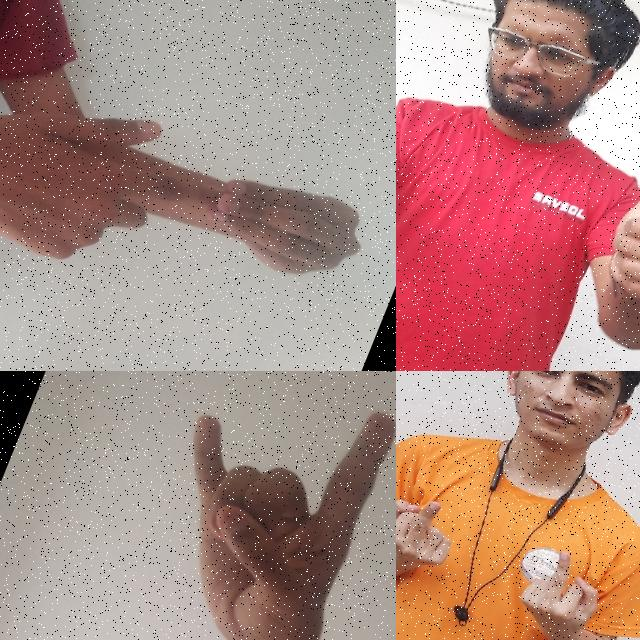Corna: (110, 371, 396, 640)
Five Fathers: (0, 19, 393, 371)
Middle Finger: (503, 534, 615, 640), (396, 472, 472, 587)
Thumbs Up: (579, 132, 640, 328)
